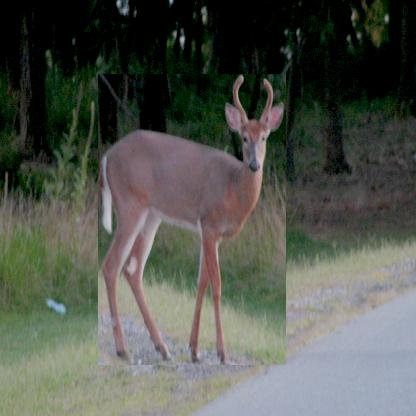Deer: (99, 74, 286, 365)
